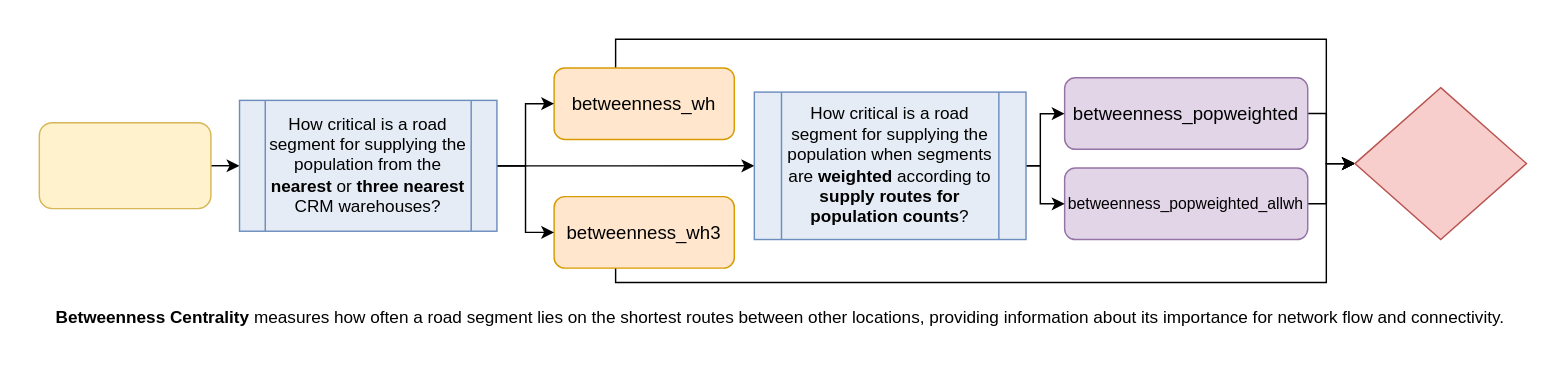
This 1564x378 diagram has some shape labels left out. Each missing label, with the box of its shape:
Centrality Score (CS): (1353, 86, 1527, 240)
Road Network: (38, 121, 211, 209)
